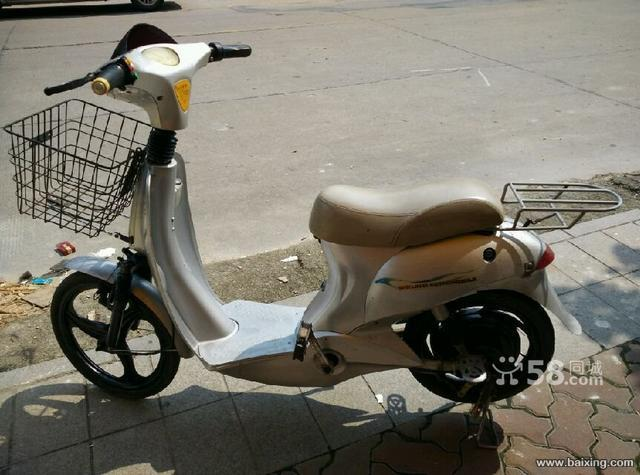电动车: (8, 21, 581, 408)
